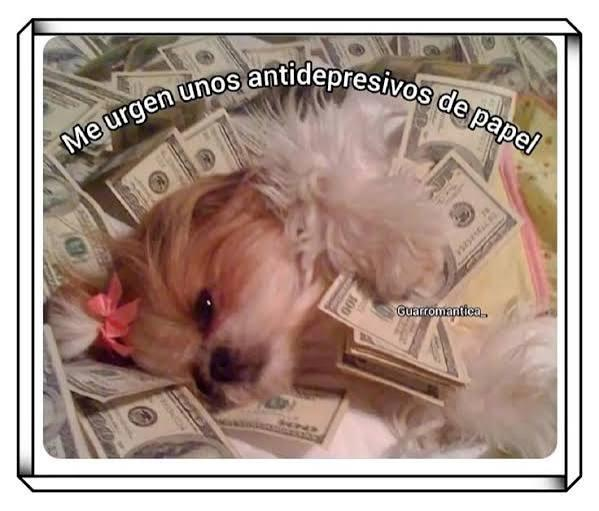adult_dog: (99, 90, 564, 460)
